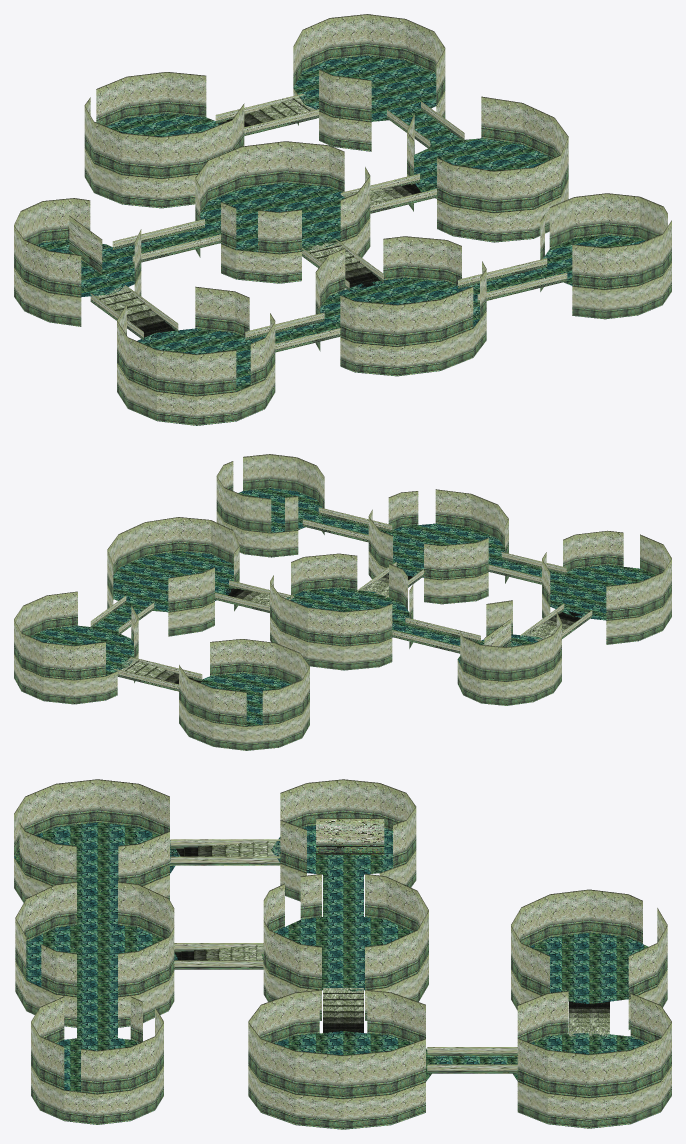
File: anterose.gltf
3 views of the same model, one above another, from view 1: azimuth 30°, elevation 25°; view 2: azimuth 150°, elevation 25°; view 3: azimuth 270°, elevation 25° (orthographic). The views are drawn at different scales.
Parts seen in each view (by area): view 1: La galerie des lanternes; view 2: La galerie des lanternes; view 3: La galerie des lanternes.
Part boxes in pixels (x1,y1,x2,y2): La galerie des lanternes: [14, 14, 671, 425]; La galerie des lanternes: [14, 454, 671, 750]; La galerie des lanternes: [14, 779, 671, 1129].
Size of the model in its own units: 47.85 by 7.2 by 48.17.
5 materials, 5 textured.
